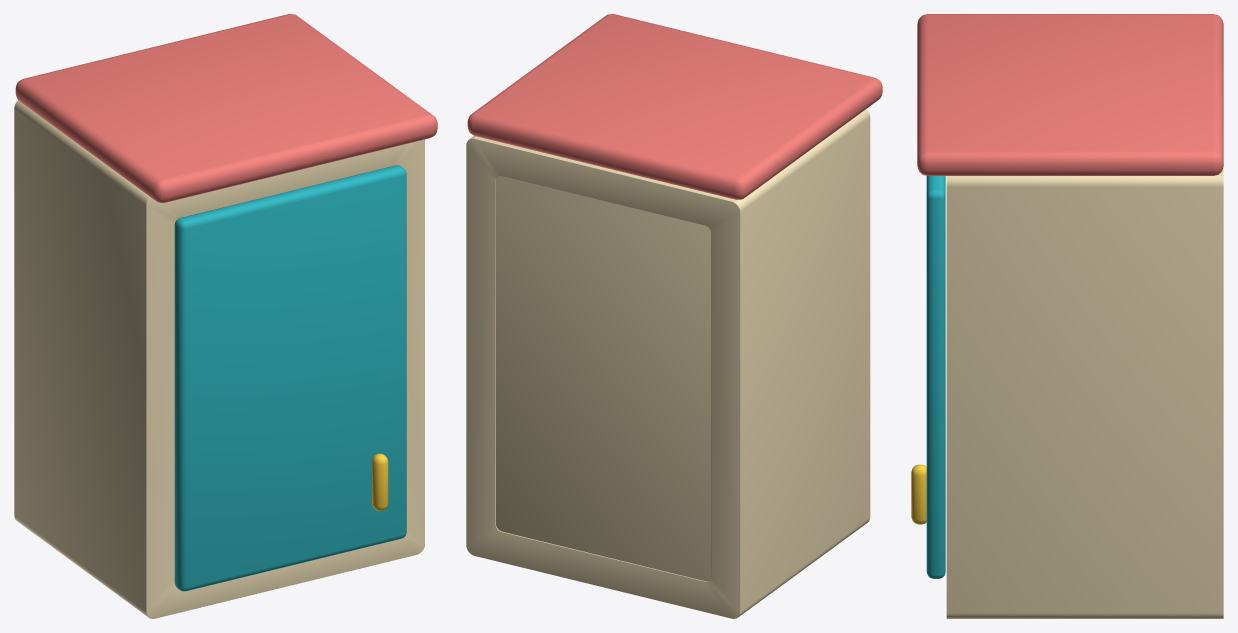
File: armario_parede_1porta_moderna_coral.glb
The picture shows the model from 3 angles, left to right: view 1: azimuth 30°, elevation 25°; view 2: azimuth 150°, elevation 25°; view 3: azimuth 270°, elevation 25°; orthographic projection. The views are drawn at different scales.
Visible parts, largest first — view 1: armario_parede_1porta_moderna_coral, porta_1; view 2: armario_parede_1porta_moderna_coral; view 3: armario_parede_1porta_moderna_coral, porta_1.
Part boxes in pixels (x1,y1,x2,y2): armario_parede_1porta_moderna_coral: [14, 14, 437, 618]; porta_1: [174, 165, 406, 591]; armario_parede_1porta_moderna_coral: [466, 14, 882, 618]; armario_parede_1porta_moderna_coral: [917, 14, 1223, 618]; porta_1: [911, 176, 945, 578].
Size of the model in its own units: 0.398 by 0.6 by 0.363.
1 material, 1 textured.
